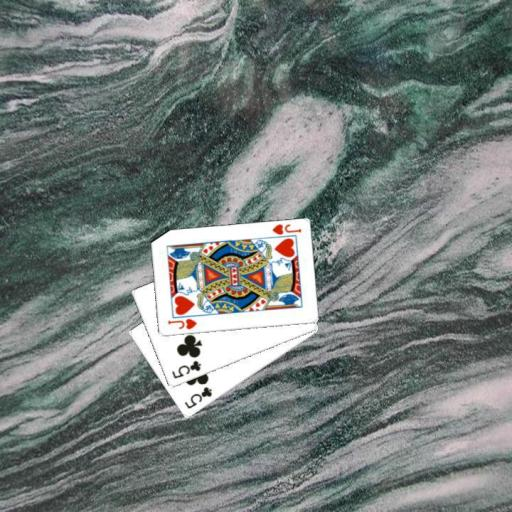5C: (182, 384, 214, 411), (168, 358, 202, 381)
JH: (164, 316, 198, 331), (269, 221, 302, 236)
